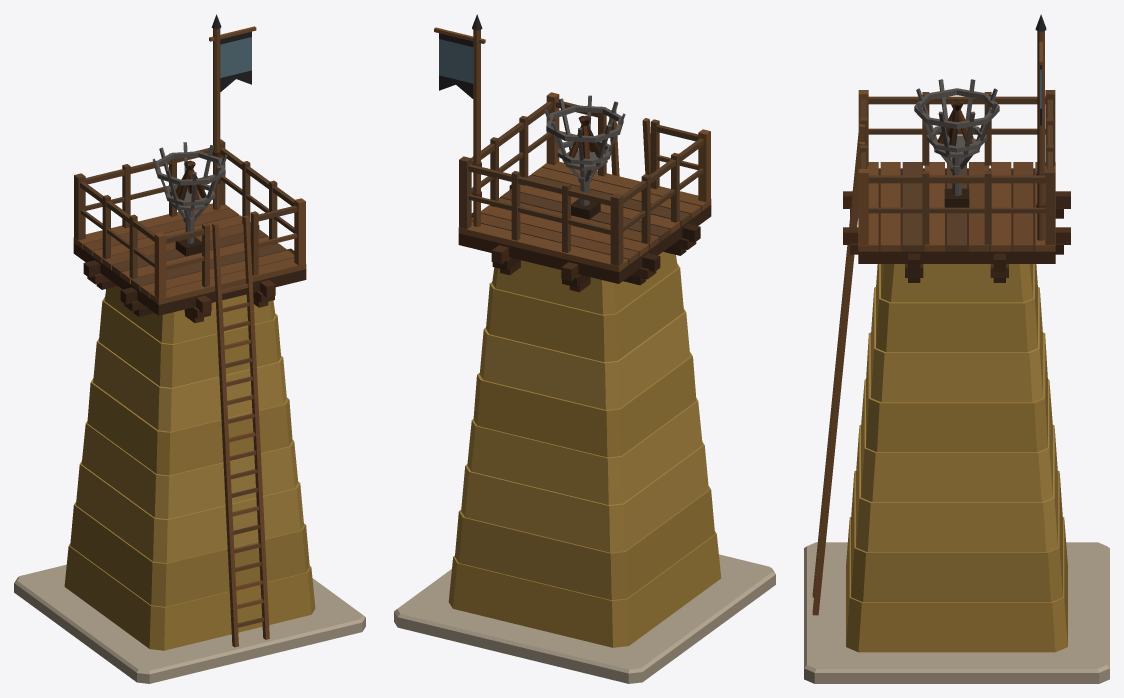
The model's file is signal-beacon-tower-9c0d1a.glb.
3 renders of one model, left to right at view 1: azimuth 30°, elevation 25°; view 2: azimuth 150°, elevation 25°; view 3: azimuth 270°, elevation 25°, orthographic. The views are drawn at different scales.
Visible parts, largest first — view 1: tower, ladder-mesh, banner-cloth-mesh; view 2: tower, banner-cloth-mesh, ladder-mesh; view 3: tower, ladder-mesh.
Boxes of the visible parts, <box> form: tower: <box>14,14,365,683</box>; ladder-mesh: <box>212,215,269,647</box>; banner-cloth-mesh: <box>220,31,251,91</box>; tower: <box>394,14,775,683</box>; banner-cloth-mesh: <box>439,33,473,98</box>; ladder-mesh: <box>609,110,650,176</box>; tower: <box>804,14,1109,683</box>; ladder-mesh: <box>812,124,865,615</box>.
Size of the model in its own units: 4 by 9.25 by 4.
